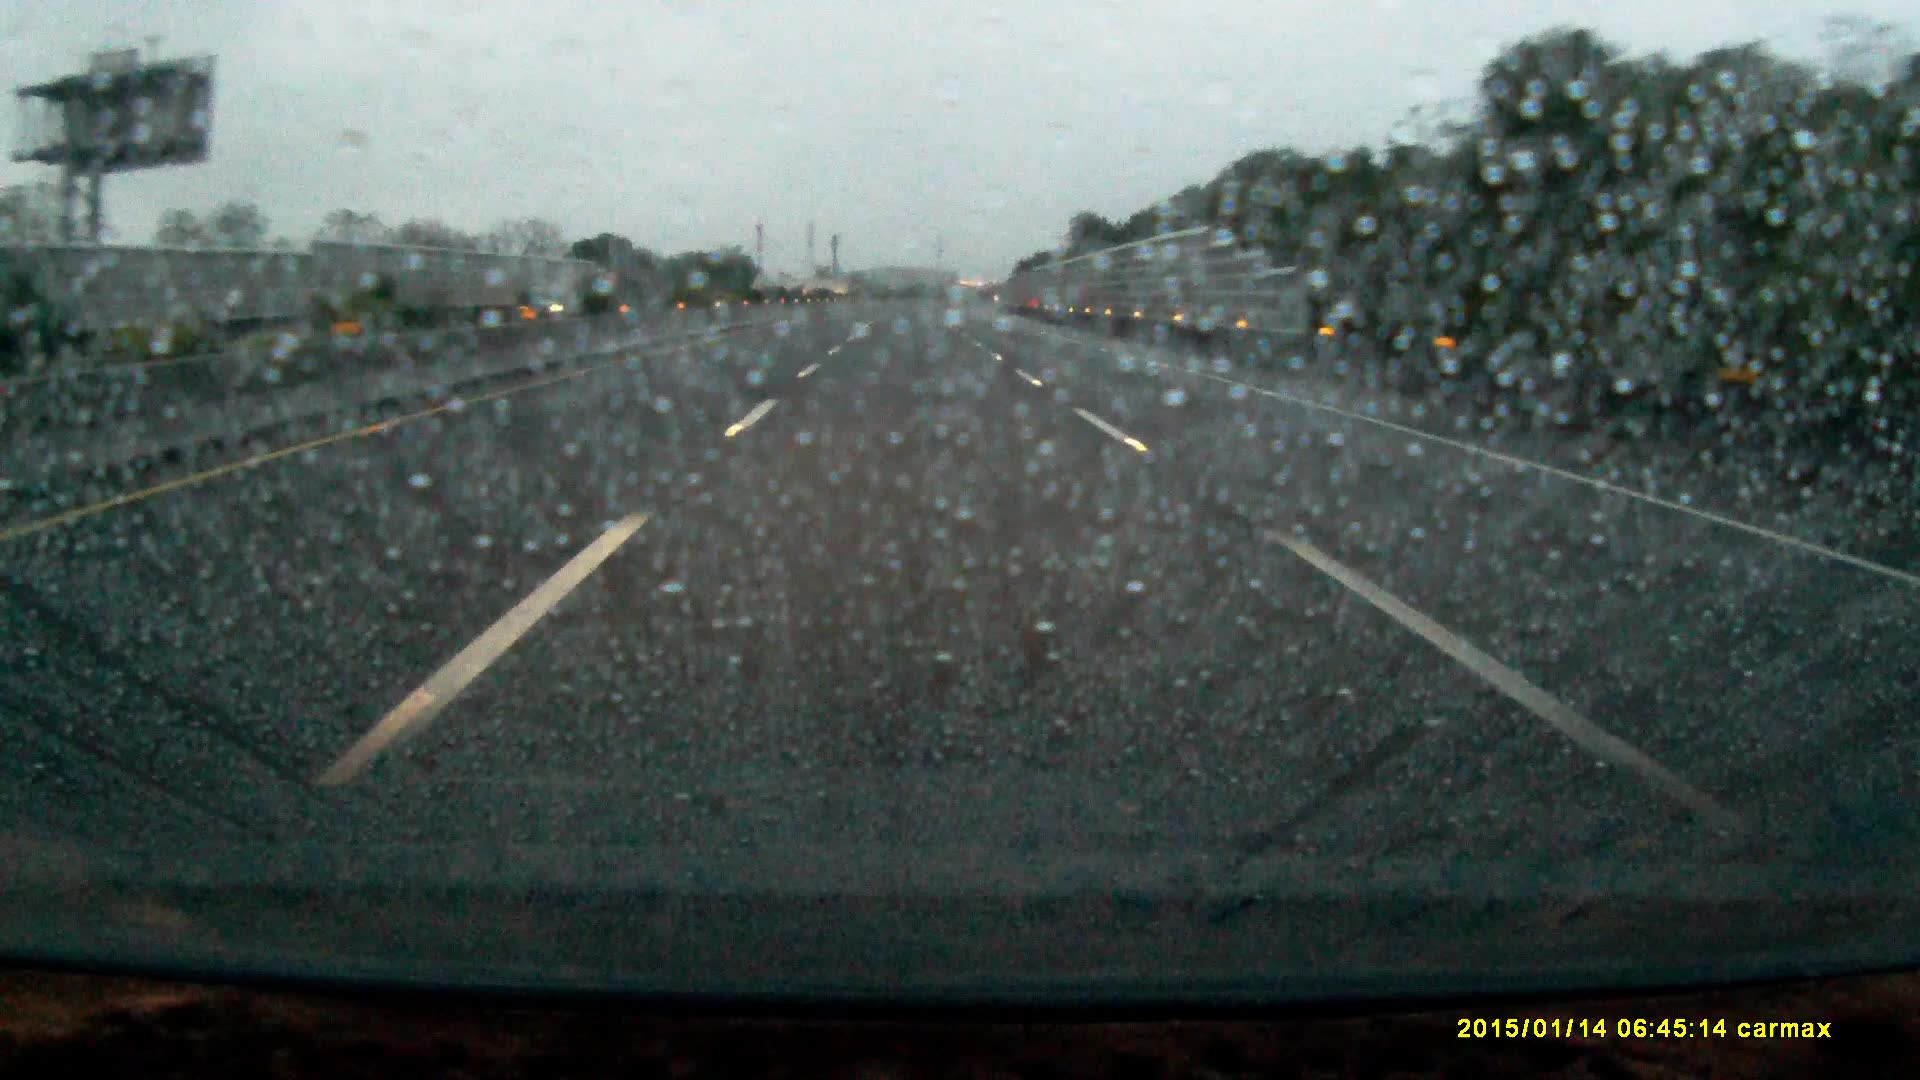vehicle: (520, 284, 582, 314)
